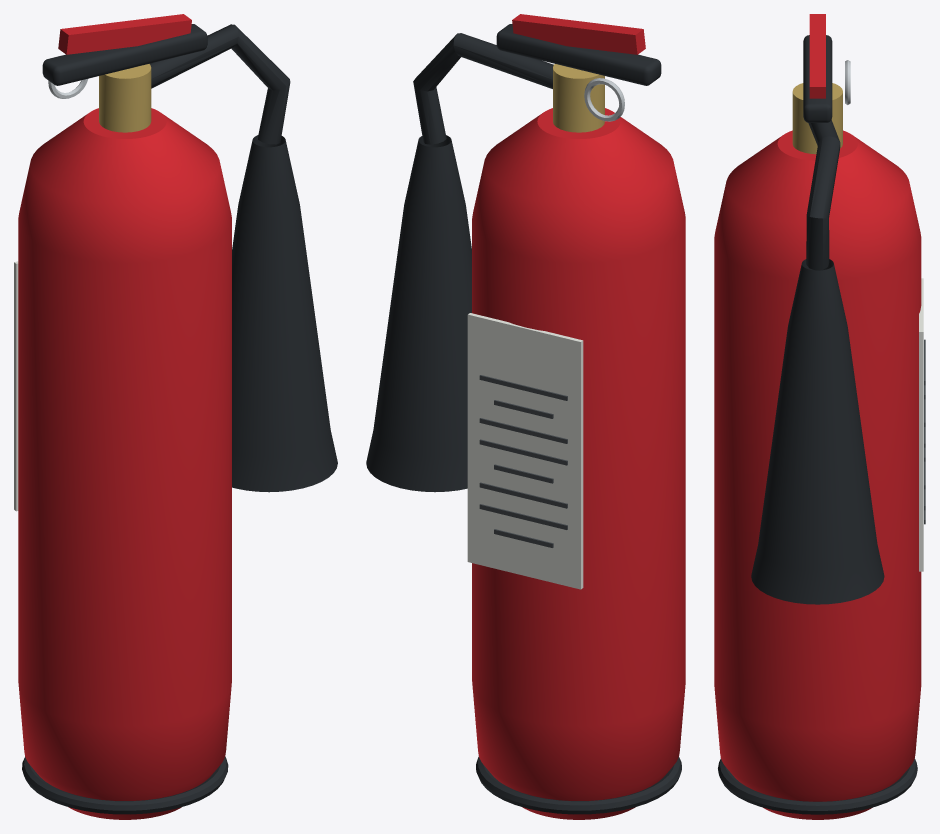
The model's file is co2_extinguisher.glb.
3 views of the same model, side by side, from view 1: azimuth 30°, elevation 25°; view 2: azimuth 150°, elevation 25°; view 3: azimuth 270°, elevation 25° (orthographic). The views are drawn at different scales.
Visible parts, largest first — view 1: co2_extinguisher; view 2: co2_extinguisher; view 3: co2_extinguisher.
Part boxes in pixels (x1,y1,x2,y2): co2_extinguisher: [14, 14, 337, 819]; co2_extinguisher: [366, 14, 685, 819]; co2_extinguisher: [714, 14, 925, 819].
Bounding box in the file's own units: 0.2167 × 0.541 × 0.1383.
